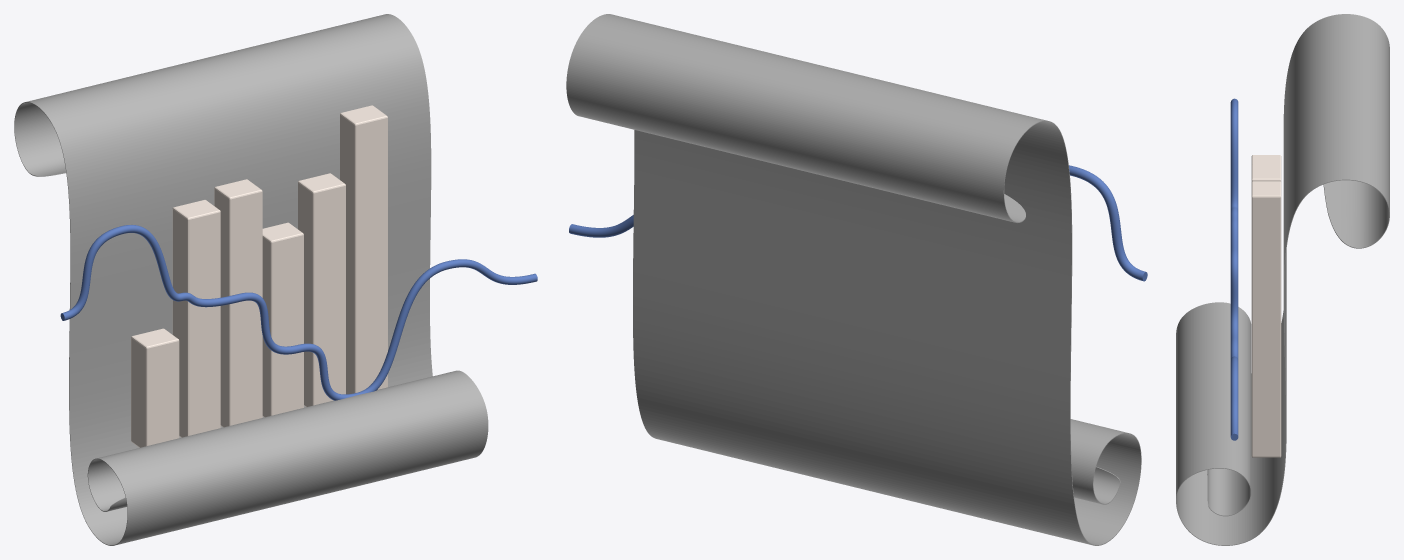
The model's file is investSim.fbx.
3 renders of one model, left to right at view 1: azimuth 30°, elevation 25°; view 2: azimuth 150°, elevation 25°; view 3: azimuth 270°, elevation 25°, orthographic. The views are drawn at different scales.
Parts seen in each view (by area): view 1: Plane.012, Куб.055, КриваяБезье.006; view 2: Plane.012, КриваяБезье.006; view 3: Plane.012, Куб.055, КриваяБезье.006.
Part boxes in pixels (<box>): Plane.012: <box>14,14,488,545</box>; Куб.055: <box>131,105,387,447</box>; КриваяБезье.006: <box>60,225,537,400</box>; Plane.012: <box>566,14,1141,545</box>; КриваяБезье.006: <box>569,165,1147,281</box>; Plane.012: <box>1176,14,1389,545</box>; Куб.055: <box>1251,155,1281,457</box>; КриваяБезье.006: <box>1230,98,1238,440</box>.
Bounding box in the file's own units: 354 × 278 × 147.
